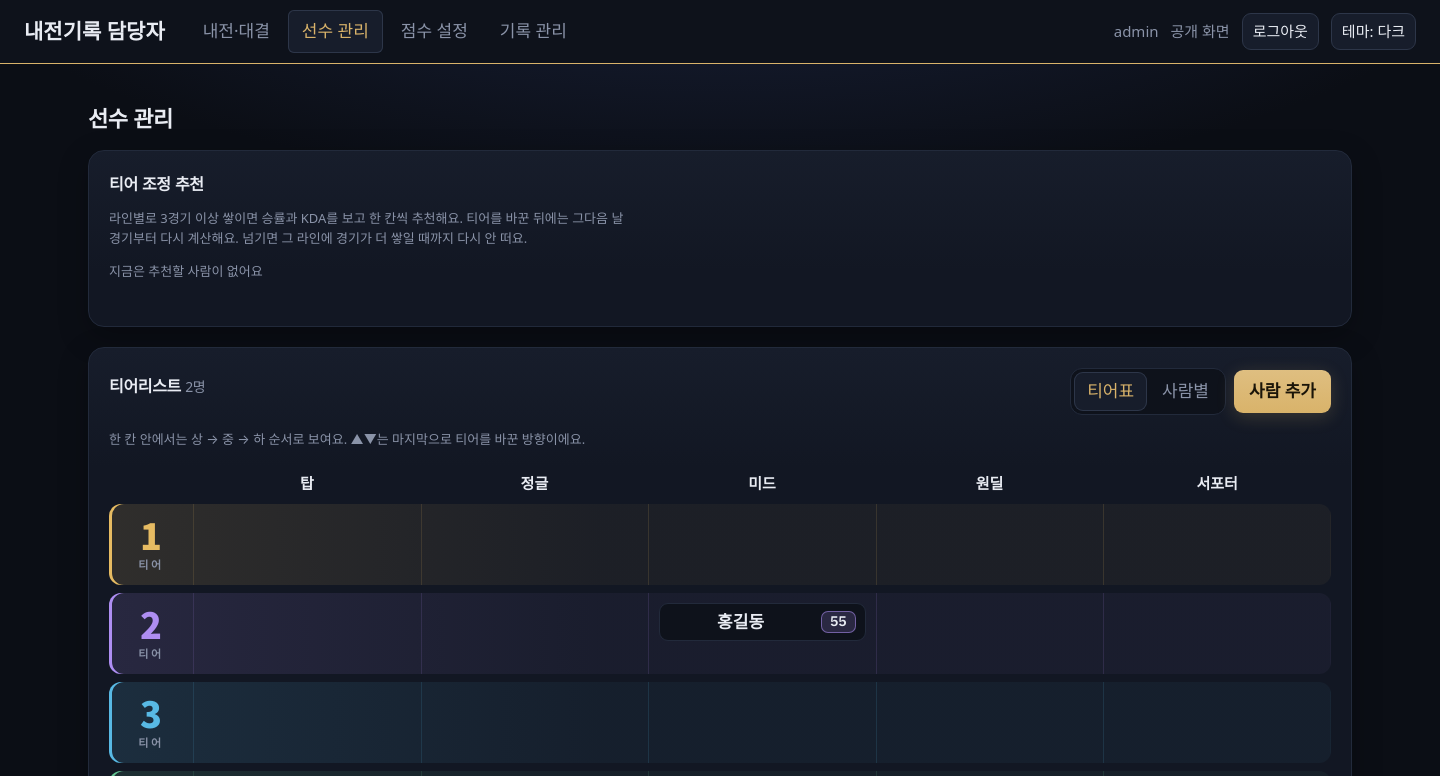
Test: PlayerTierAdminPage › 409 ALIAS_CONFLICT이면 충돌한 닉네임과 연결된 선수를 보여 주고 편집기를 닫지 않는다
This screenshot has width=1440, height=776.
Click the button with aria-label "홍길동 수정" at (762, 622), box [659, 603, 866, 641]
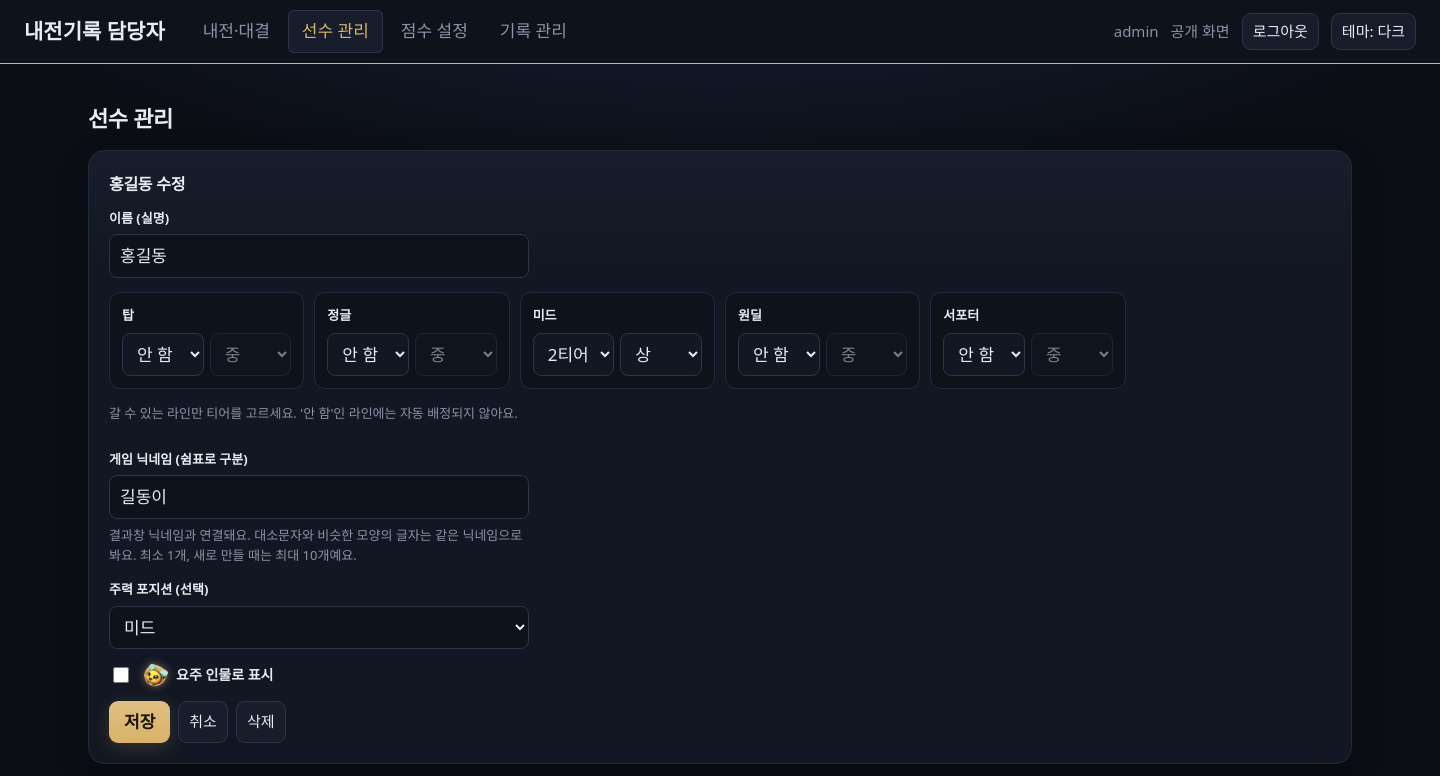
Type ", 낯선닉" into the field labelled "게임 닉네임 (쉼표로 구분)" at (319, 497), box [109, 475, 529, 519]
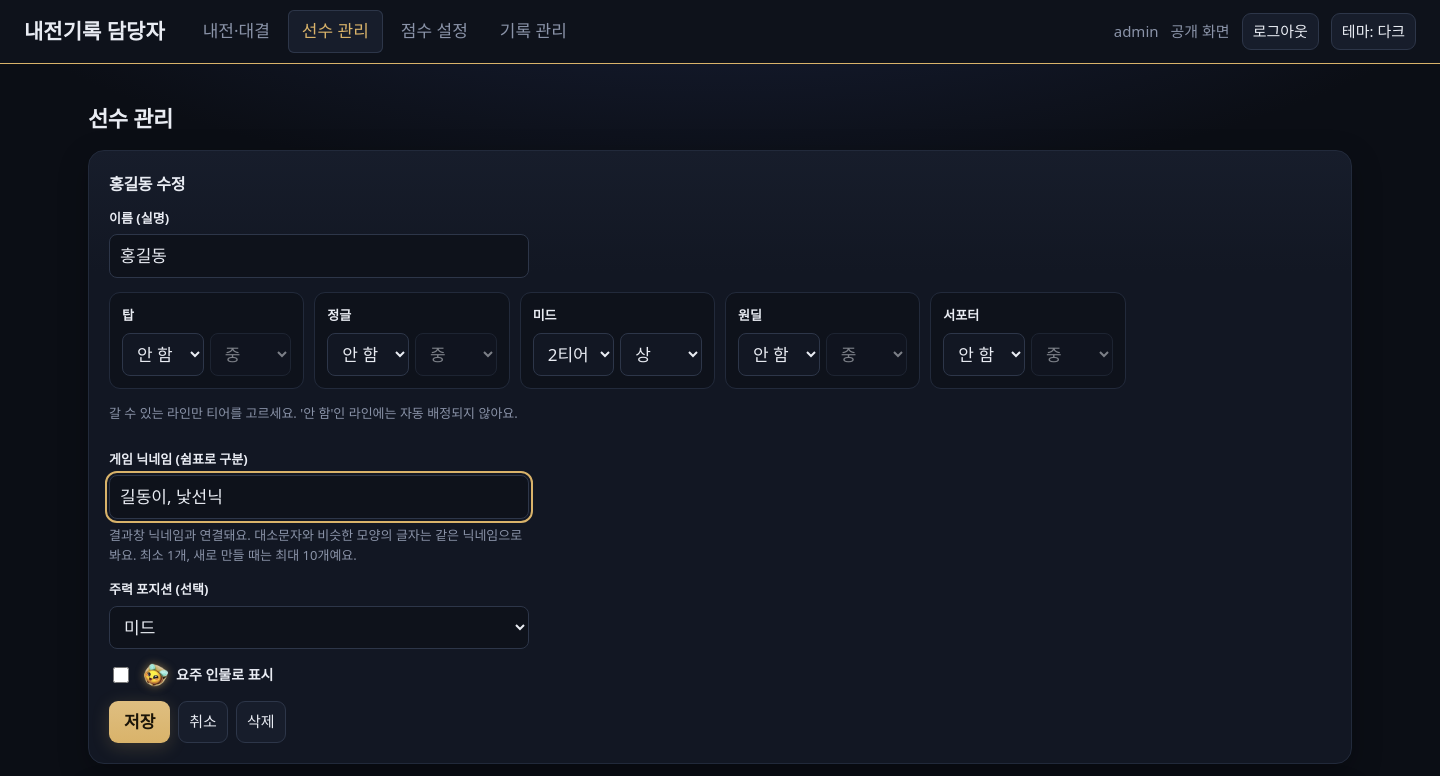
Click the button "저장" at (140, 722), box [109, 701, 170, 743]
(page scrolled)
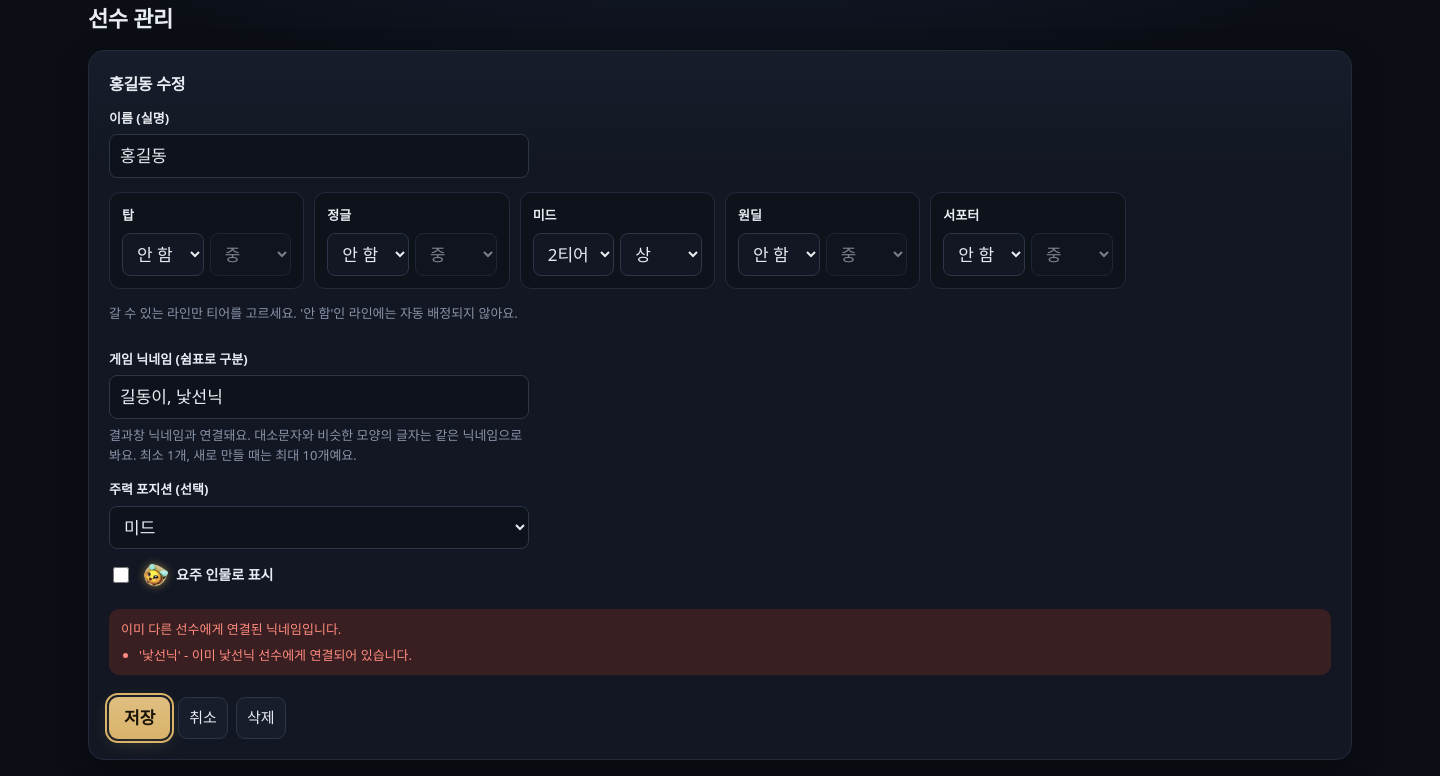
Expected: the element named "선수 편집기" is shown
Expected: the message shows "이미 다른 선수에게 연결된 닉네임입니다", [121, 620, 341, 638]
Expected: the message shows "'낯선닉' - 이미 낯선닉 선수에게 연결되어 있습니다.", [139, 646, 412, 664]
